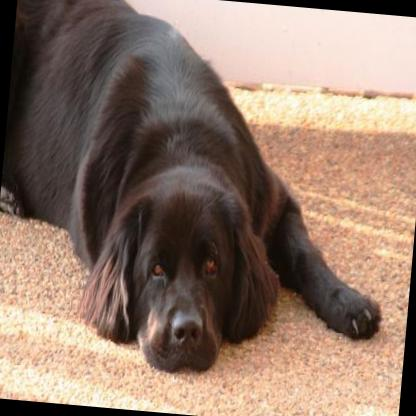Newfoundland: (0, 0, 410, 399)
